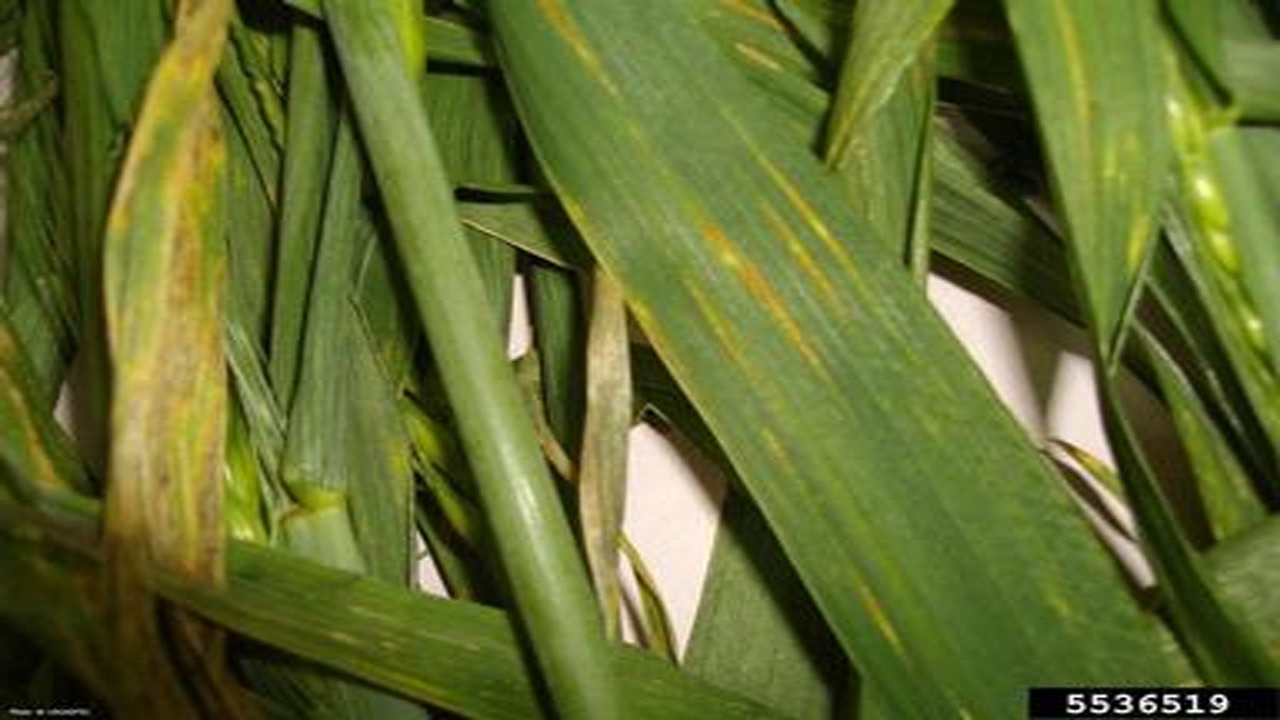stripe_rust: (485, 1, 1162, 685), (105, 2, 235, 586)
